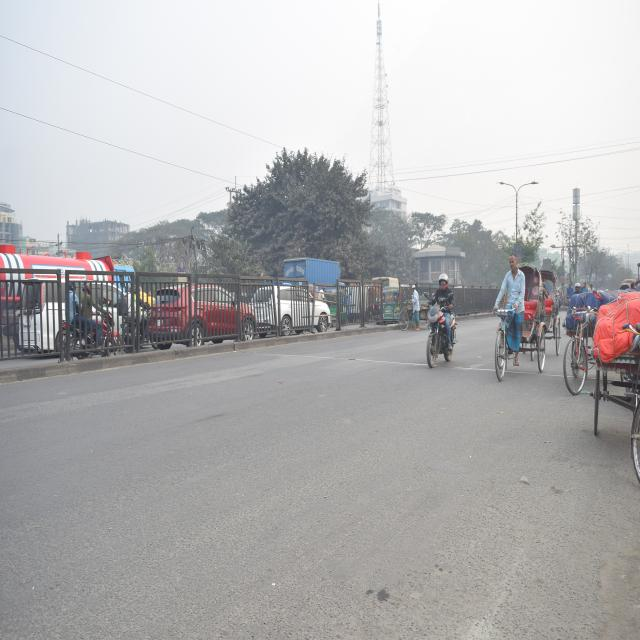car: (144, 280, 266, 346), (250, 274, 335, 345)
motorbike: (56, 282, 120, 362), (425, 282, 463, 371)
truck: (4, 255, 125, 317)
